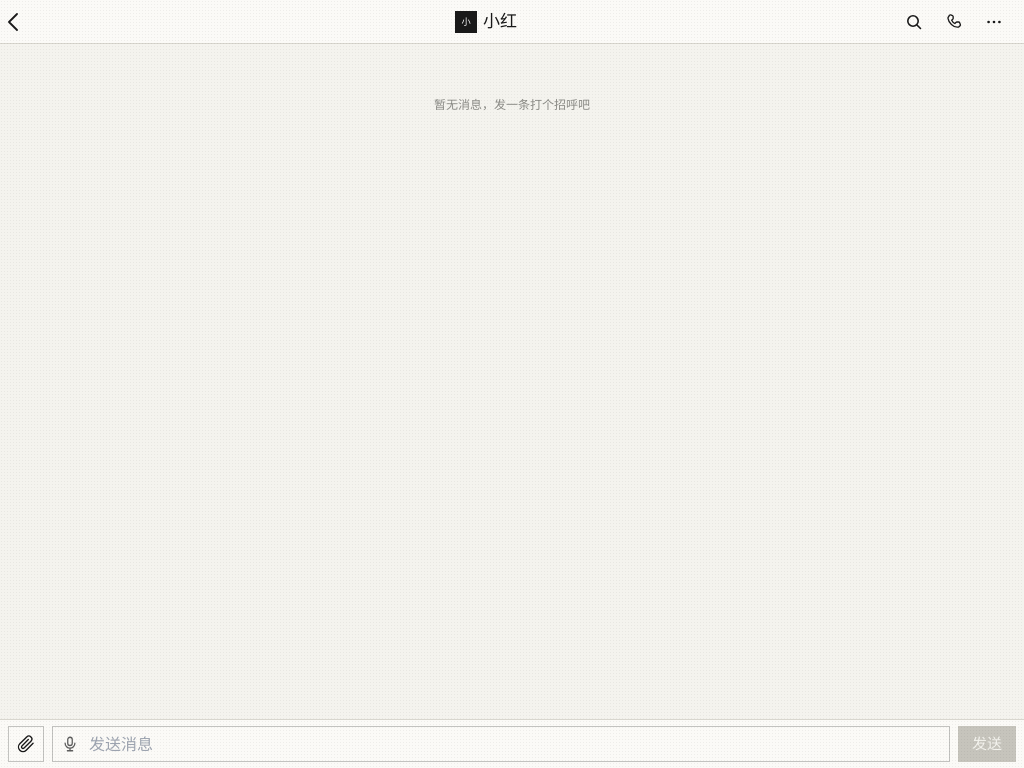
Test: ChatDetail 拉黑确认 › 点击拉黑先弹确认，取消后不执行拉黑
Click the button with test id "chat-menu" at (994, 22), box [976, 4, 1012, 40]
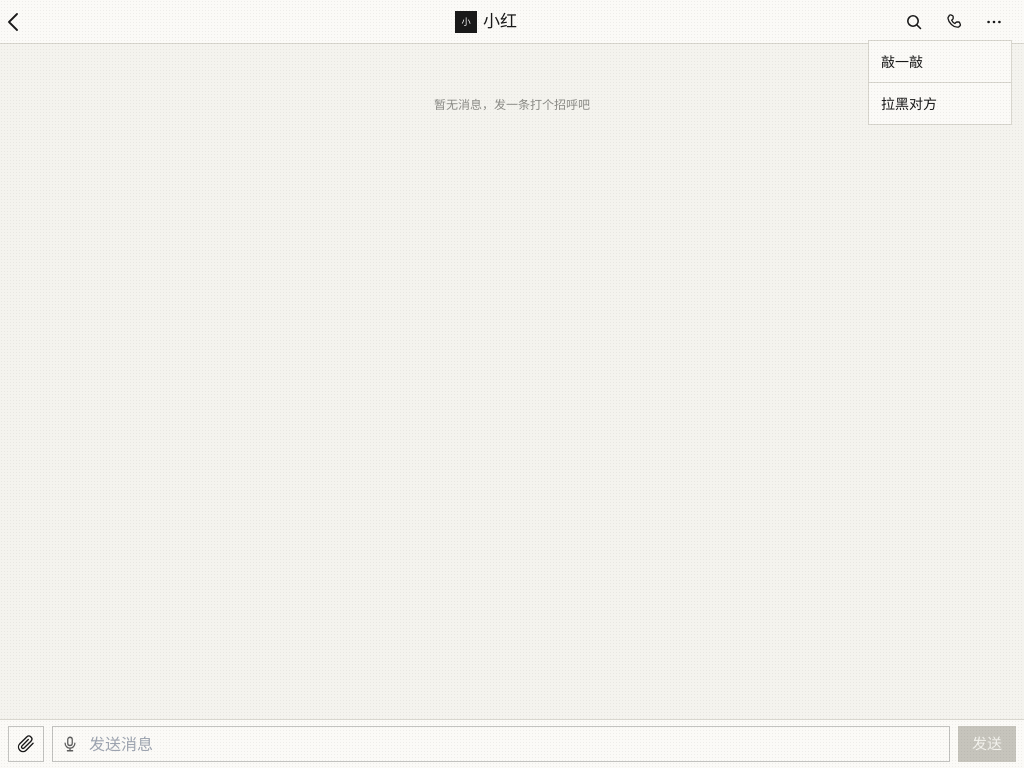
Click the button with test id "block-toggle" at (940, 103), box [869, 82, 1011, 124]
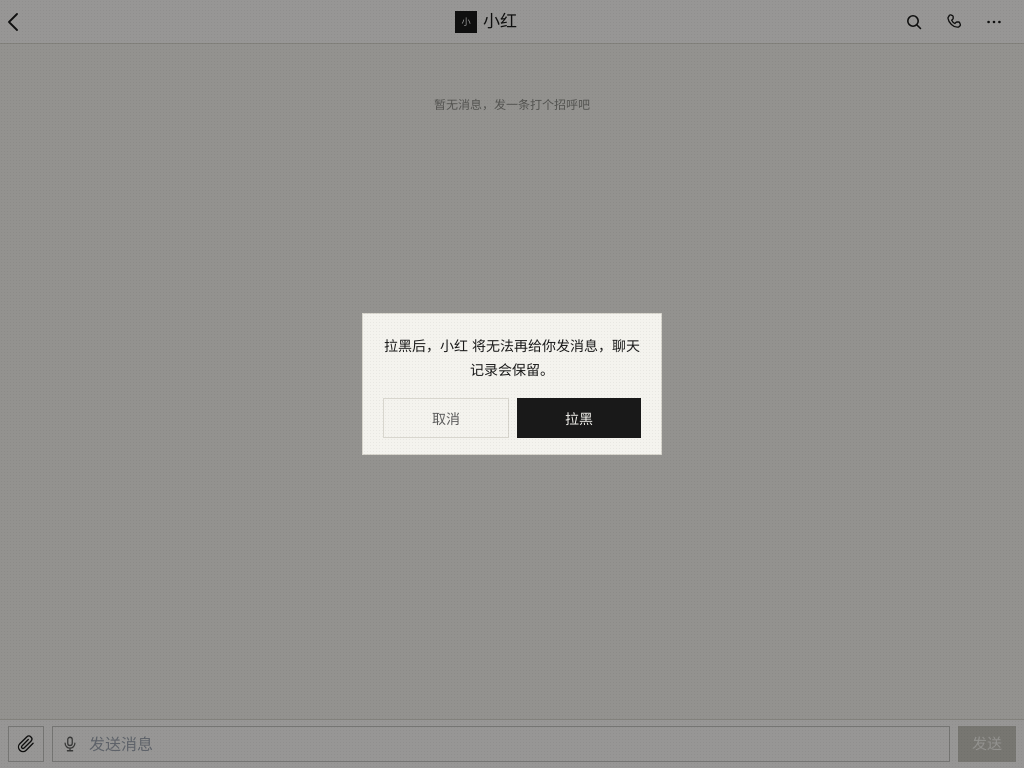
expect the dialog with test id "block-confirm-dialog" is shown: met, box [362, 313, 662, 455]
expect the text "拉黑后，小红 将无法再给你发消息，聊天记录会保留。" is shown: met, box [383, 334, 641, 382]
Click the button with test id "block-cancel" at (446, 418), box [383, 398, 509, 438]
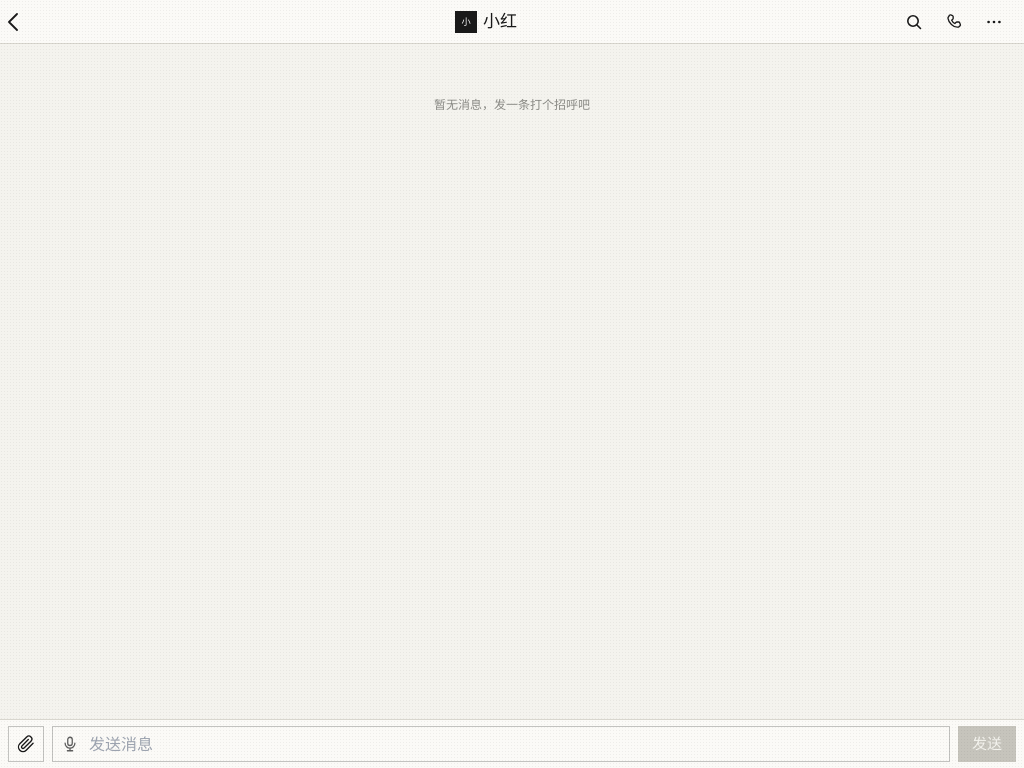
expect the dialog with test id "block-confirm-dialog" is gone: met
